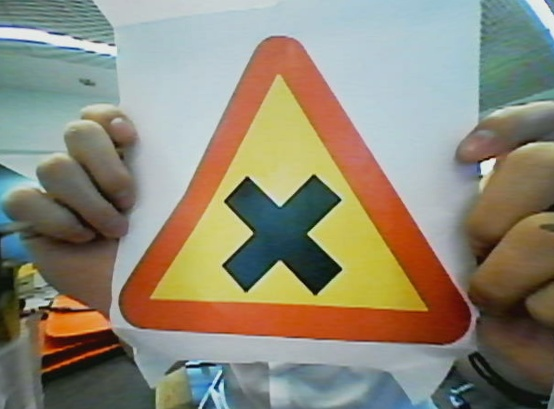junction: (108, 24, 487, 354)
